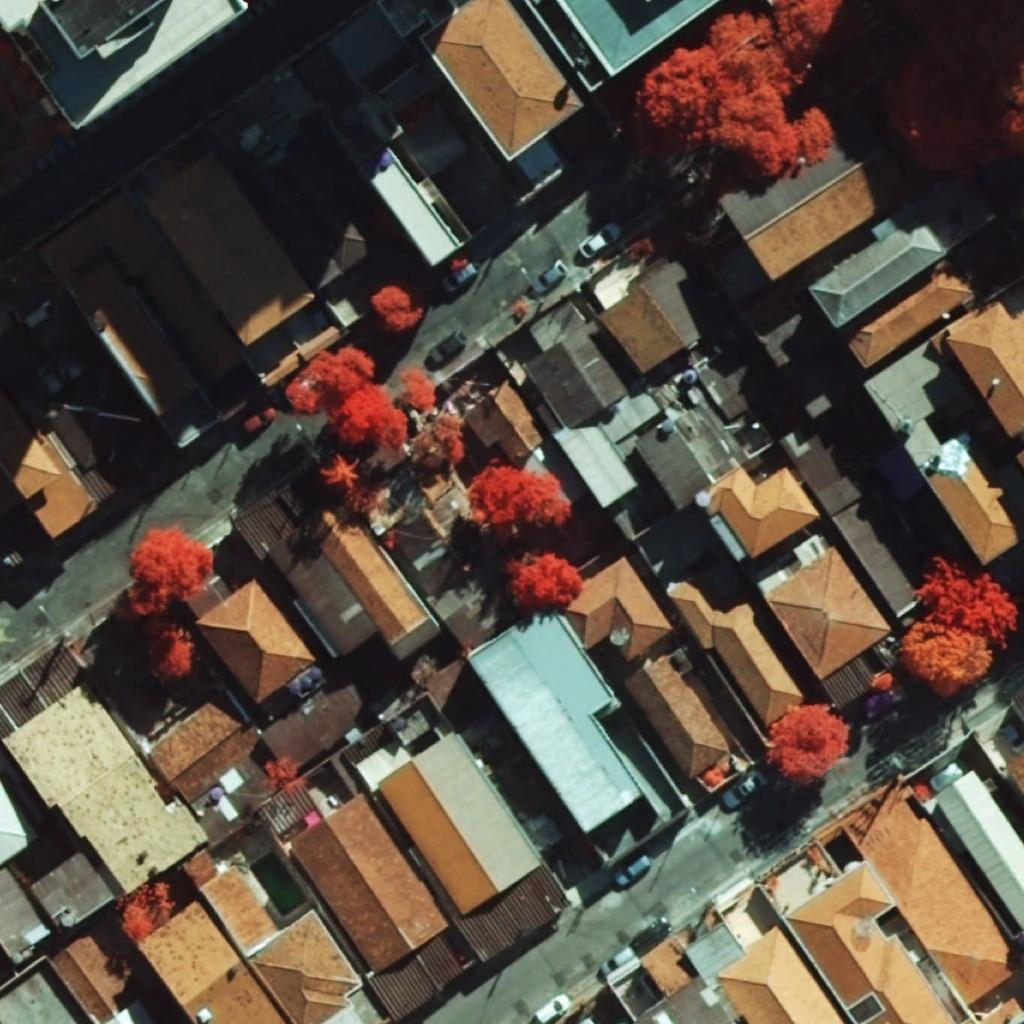pool: (250, 852, 306, 916)
